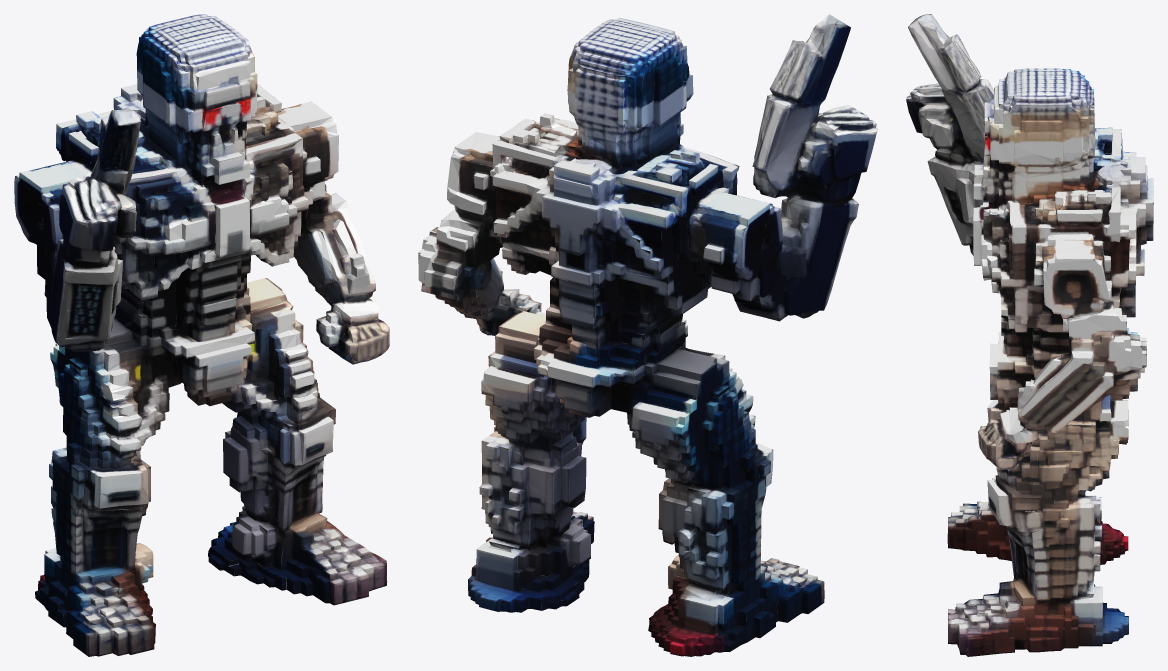
The model's file is robot.glb.
The picture shows the model from 3 angles, left to right: view 1: azimuth 30°, elevation 25°; view 2: azimuth 150°, elevation 25°; view 3: azimuth 270°, elevation 25°; orthographic projection. The views are drawn at different scales.
Parts seen in each view (by area): view 1: world; view 2: world; view 3: world.
Boxes of the visible parts, x1,y1,x2,y2 form: world: (14,14,389,656); world: (418,14,877,656); world: (906,14,1153,656).
Size of the model in its own units: 0.6574 by 1 by 0.439.
1 material, 1 textured.
